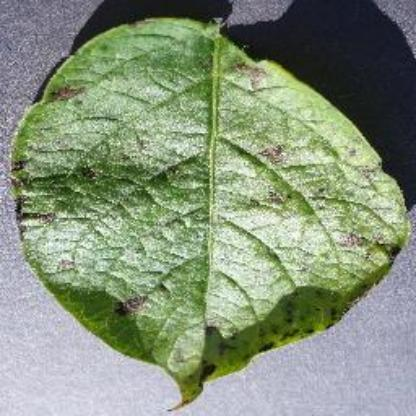Early-Blight: (10, 7, 406, 413)
